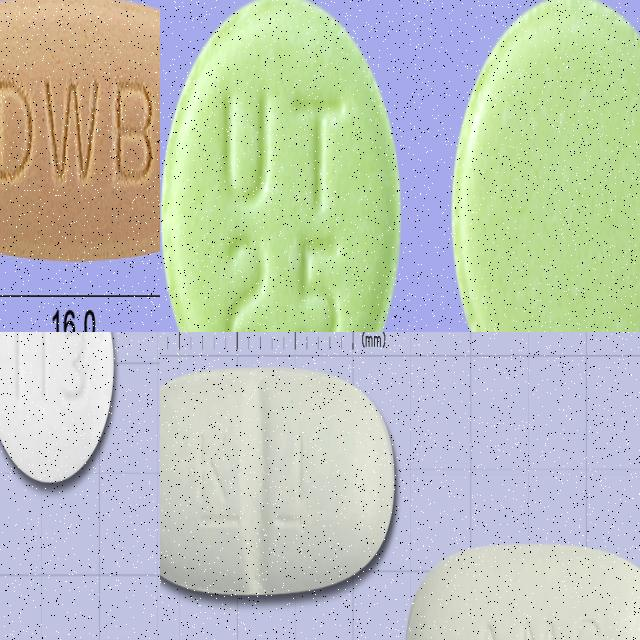Amocla Duo500mg: (160, 363, 397, 601), (403, 542, 640, 640)
Azaprine -25mg: (160, 0, 405, 332), (450, 0, 640, 332)
Ciprofloxacin Hcl Tab- Ilyang: (0, 332, 121, 491)
Cravocin: (0, 0, 160, 261)
